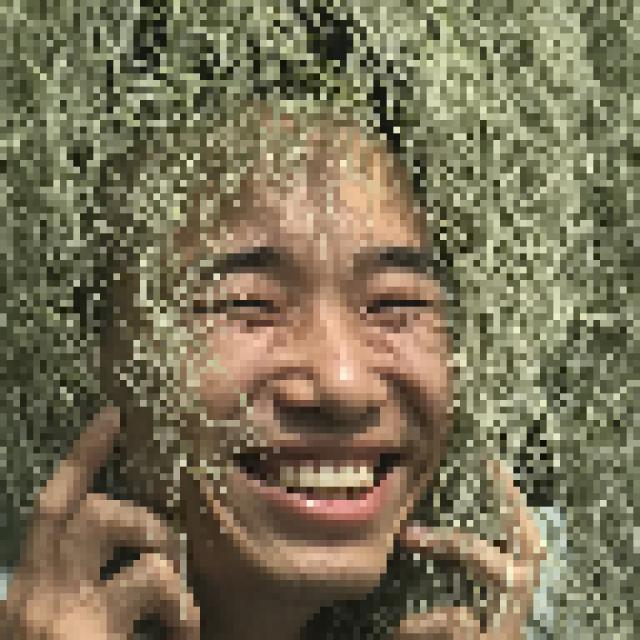happy: (129, 121, 470, 598)
